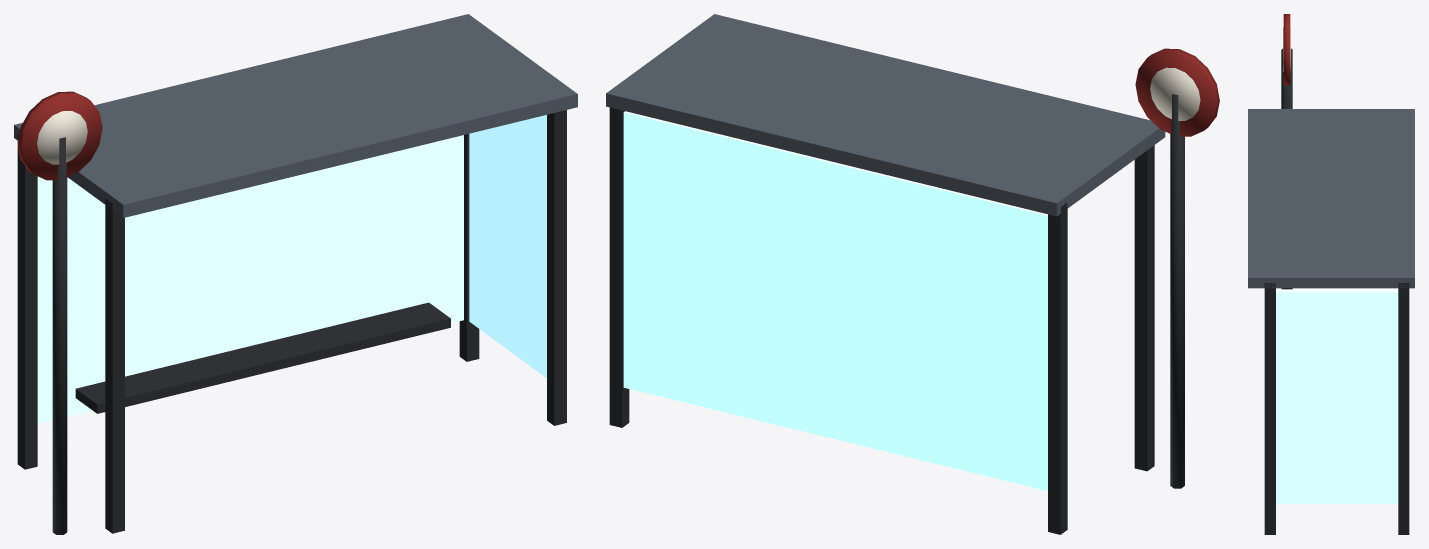
The model's file is cp_busstop.glb.
3 views of the same model, side by side, from view 1: azimuth 30°, elevation 25°; view 2: azimuth 150°, elevation 25°; view 3: azimuth 270°, elevation 25° (orthographic). The views are drawn at different scales.
Visible parts, largest first — view 1: city_cp_busstop; view 2: city_cp_busstop; view 3: city_cp_busstop.
Boxes of the visible parts, x1,y1,x2,y2 form: city_cp_busstop: (14, 14, 577, 534); city_cp_busstop: (606, 14, 1219, 534); city_cp_busstop: (1248, 14, 1414, 534).
Bounding box in the file's own units: 4.22 × 3.32 × 1.5.
2 materials, 2 textured.
